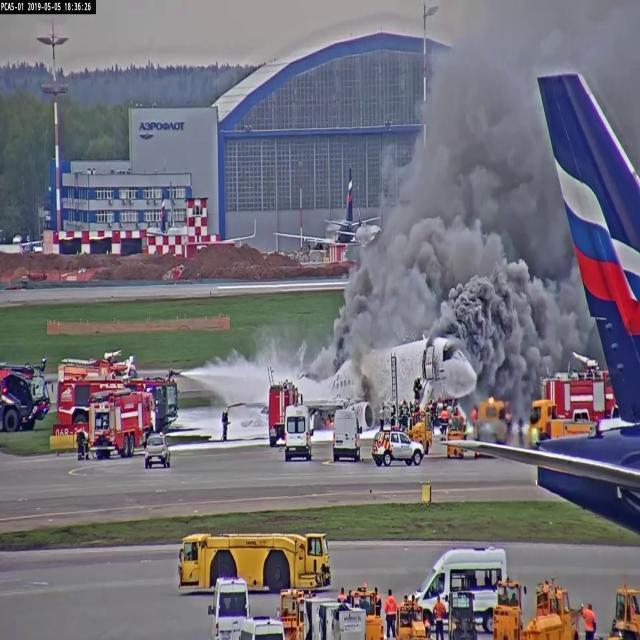Smoke: (411, 92, 515, 328), (455, 265, 566, 363)
